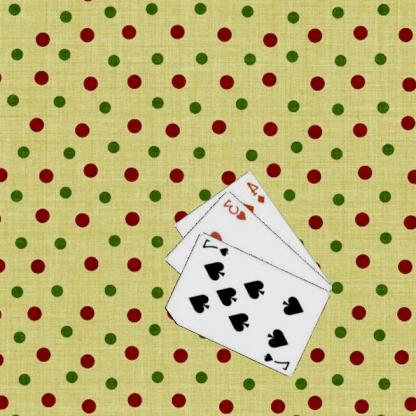3H: (222, 196, 249, 221)
4D: (246, 179, 268, 205)
7S: (202, 235, 232, 258), (263, 350, 293, 371)
